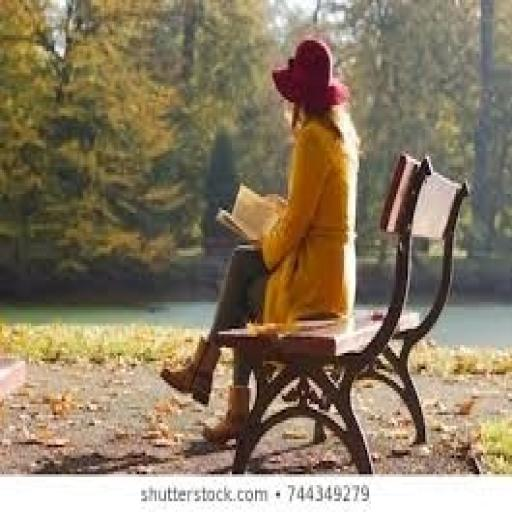sitting: (158, 35, 362, 445)
